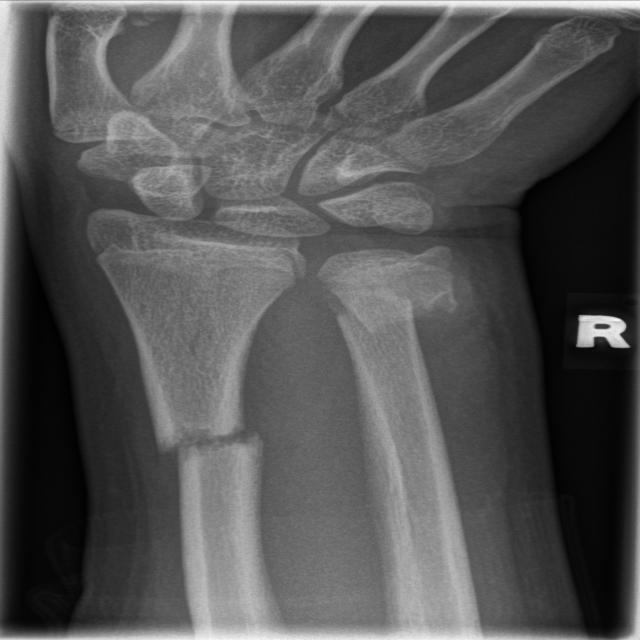radius fracture: (124, 354, 316, 555)
ulna fracture: (317, 255, 484, 457)
